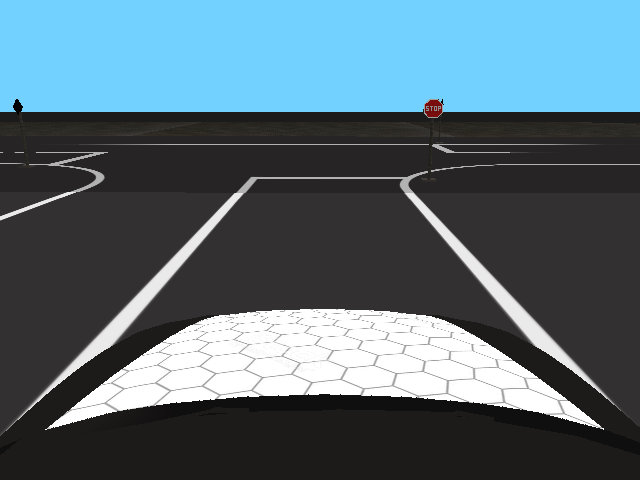stop: (423, 98, 443, 118)
